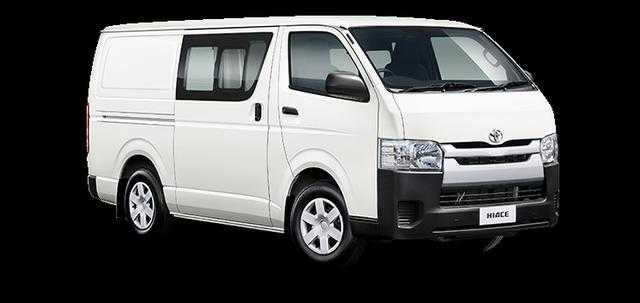van: (86, 16, 559, 265)
